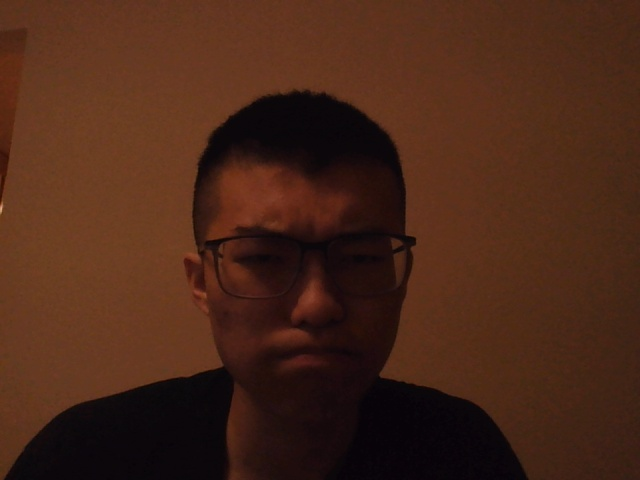anger: (178, 88, 418, 429)
